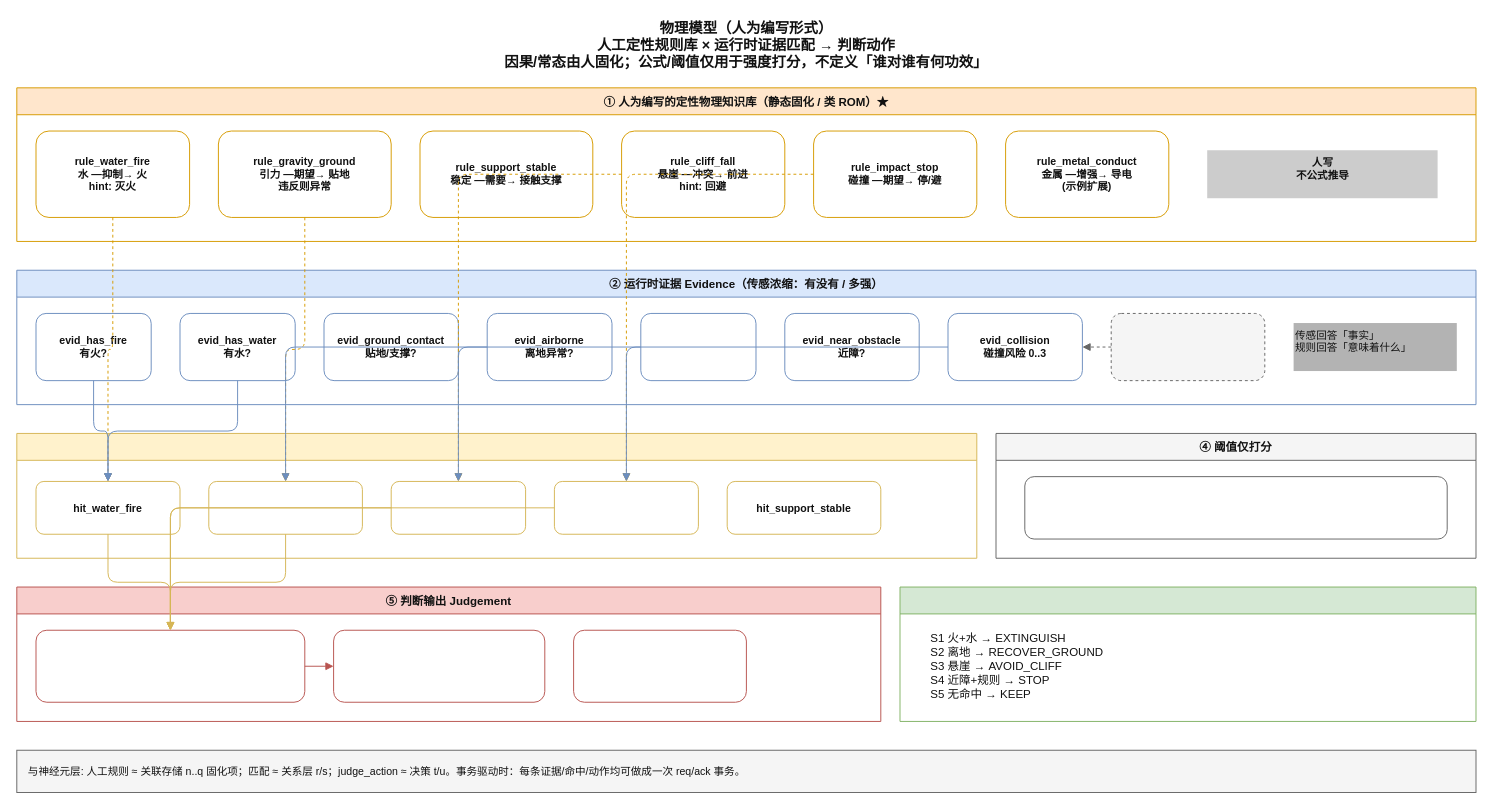
Image size: 1493x809. Some labels were removed from this diagram. The shapes that lost their labels are listed below. From the top down, each one's box as (x1, y1, x2, y2) in pixels, then its label:
(640, 312, 756, 381): evid_cliff 悬崖?
(1110, 312, 1265, 381): score_collision 阈值打分(辅) 非因果来源
(208, 480, 362, 534): hit_gravity_ground
(390, 480, 526, 534): hit_cliff_fall
(16, 432, 977, 558): ③ 匹配器 match_rules（证据 × 人工规则 → hit_*）
(553, 480, 698, 534): hit_impact_stop
(1024, 476, 1447, 539): 近障档 + 速度档 → score_collision 只抬升 evid 强度 不创建「应否停止」
(35, 629, 305, 702): judge_action 0 KEEP 3 STOP 4 EXTINGUISH 5 RECOVER_GROUND 6 AVOID_CLIFF
(333, 629, 545, 702): judge_rule_id 命中哪条人工规则
(573, 629, 746, 702): judge_note 附加说明/分数
(899, 586, 1476, 721): ⑥ 测试场景（人工规则命中）
